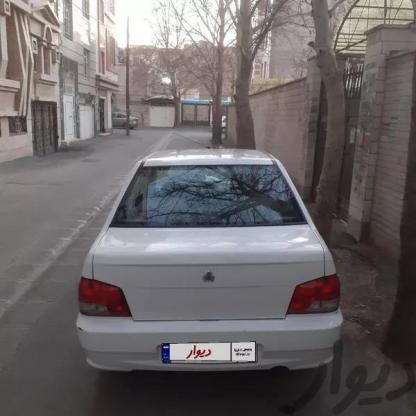Car: (78, 139, 354, 386), (112, 114, 138, 133)
